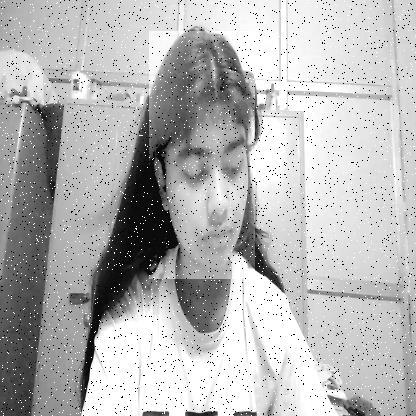Distracted: (148, 31, 254, 279)
